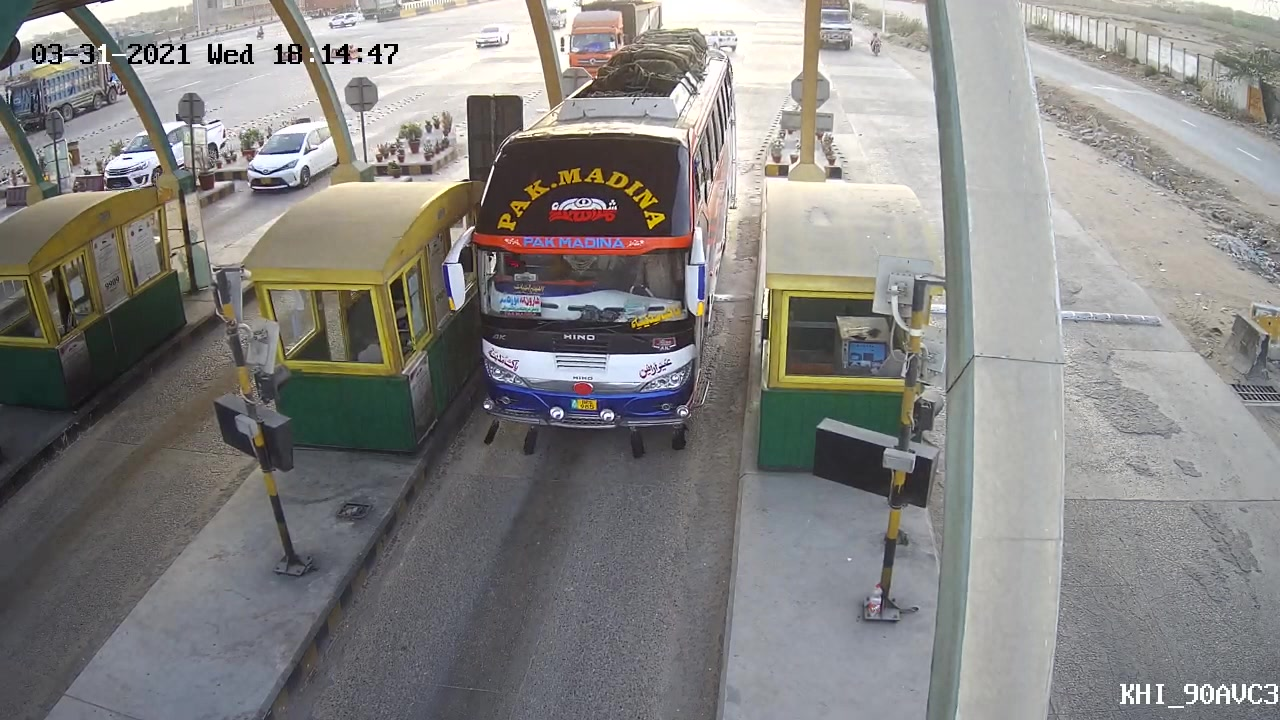F4: (457, 17, 766, 442)
